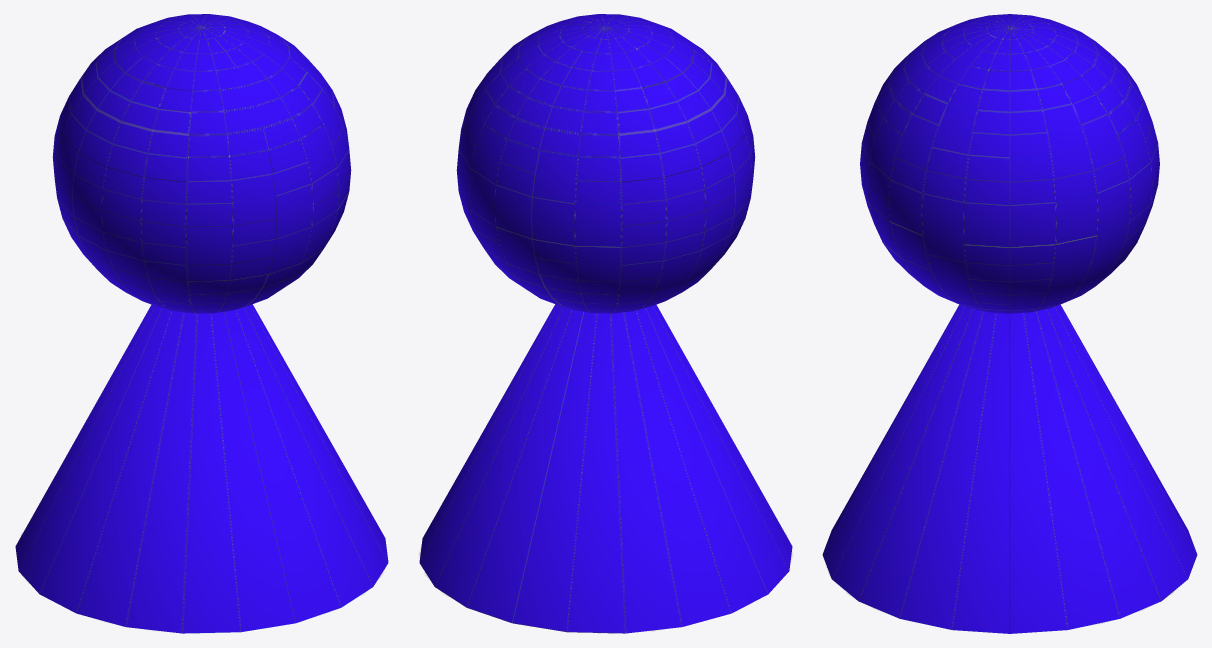
The model's file is Player2.fbx.
The picture shows the model from 3 angles, left to right: view 1: azimuth 30°, elevation 25°; view 2: azimuth 150°, elevation 25°; view 3: azimuth 270°, elevation 25°; orthographic projection.
Parts seen in each view (by area): view 1: pCone2; view 2: pCone2; view 3: pCone2.
Boxes of the visible parts, left/top/right/bottom form: pCone2: left=15, top=14, right=388, bottom=633; pCone2: left=419, top=14, right=792, bottom=633; pCone2: left=822, top=14, right=1197, bottom=633.
Size of the model in its own units: 2 by 3.1 by 2.
